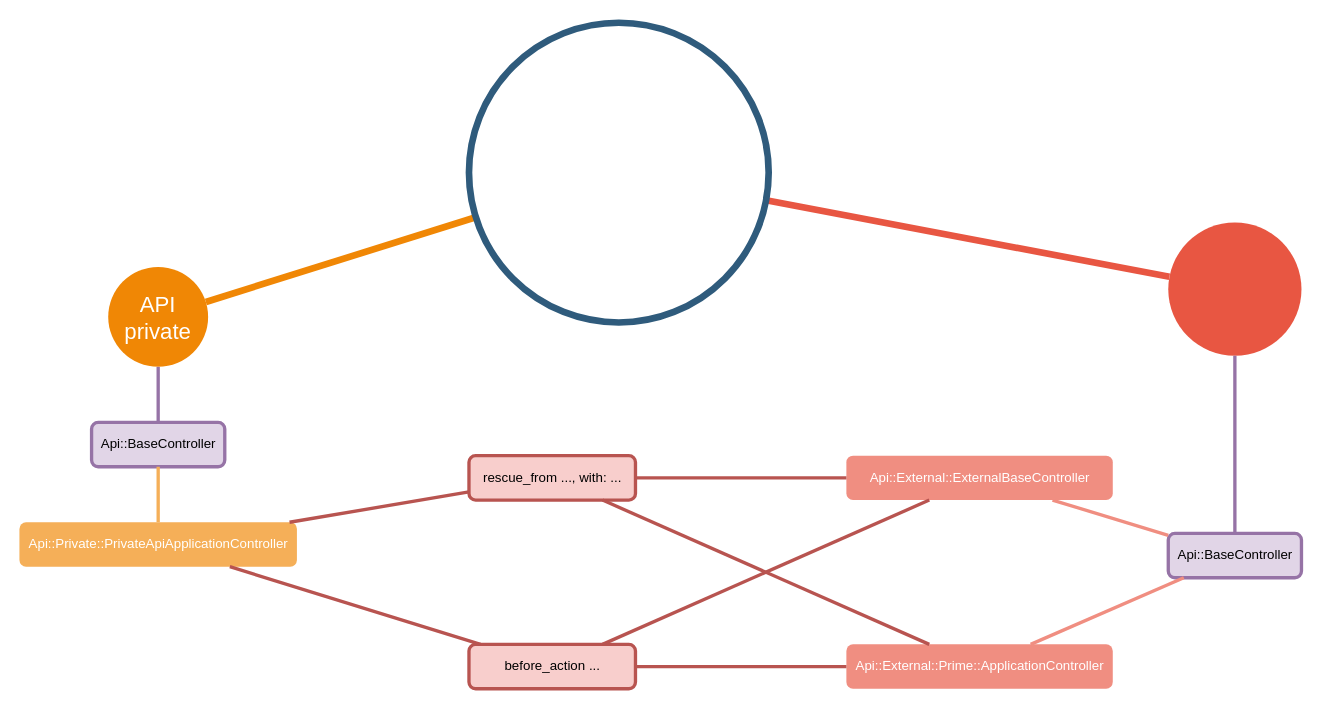
The diagram is 1322 pixels wide and 709 high, and some of its shapes have lost their labels. The shapes that lost their labels are listed below. From the top down, each one's centre as x and y in pixels, then its label:
At (x=618, y=172): "API".
At (x=1234, y=288): "API external".
